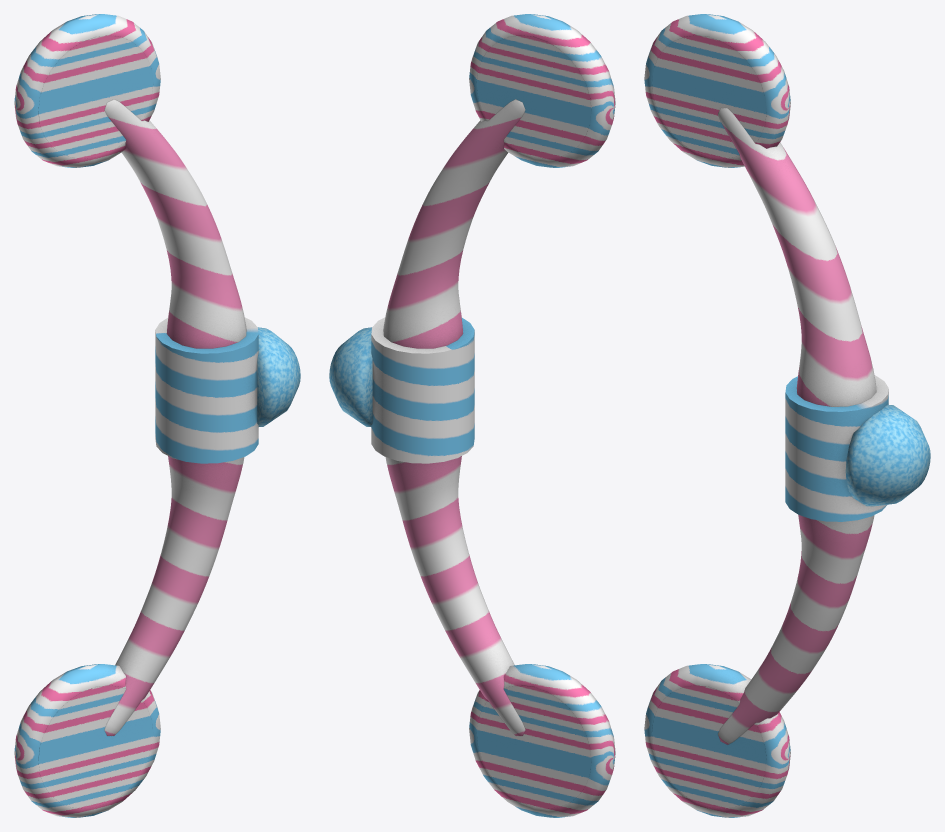
The model's file is Candy Bow.fbx.
The picture shows the model from 3 angles, left to right: view 1: azimuth 30°, elevation 25°; view 2: azimuth 150°, elevation 25°; view 3: azimuth 330°, elevation 25°; orthographic projection.
Visible parts, largest first — view 1: Candy Bow; view 2: Candy Bow; view 3: Candy Bow.
Part boxes in pixels (x1,y1,x2,y2): Candy Bow: [14, 14, 300, 817]; Candy Bow: [329, 14, 615, 817]; Candy Bow: [644, 14, 930, 817].
Bounding box in the file's own units: 5.8 × 16 × 1.9.
1 material, 1 textured.
